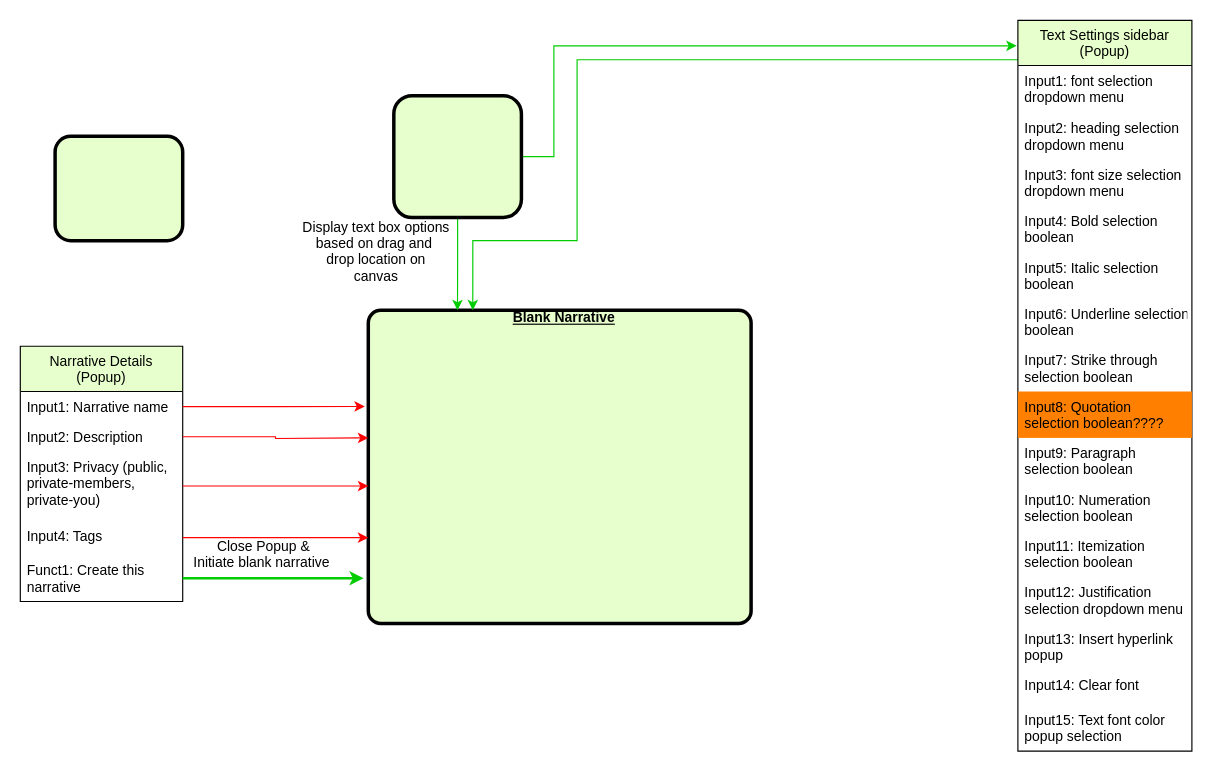
This 1212x775 diagram has some shape labels left out. Each missing label, with the centre of its shape:
"Back Funct1: Return to Portal page" goes at (x=118, y=188).
"Text Input: Drag and Drop to location Funct1: Popup Text Settings sidebar" goes at (x=457, y=156).
